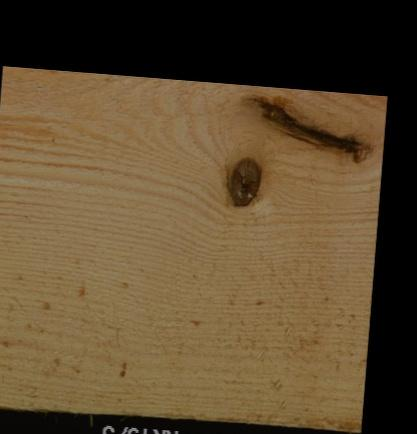dry_knot: (225, 155, 261, 207)
